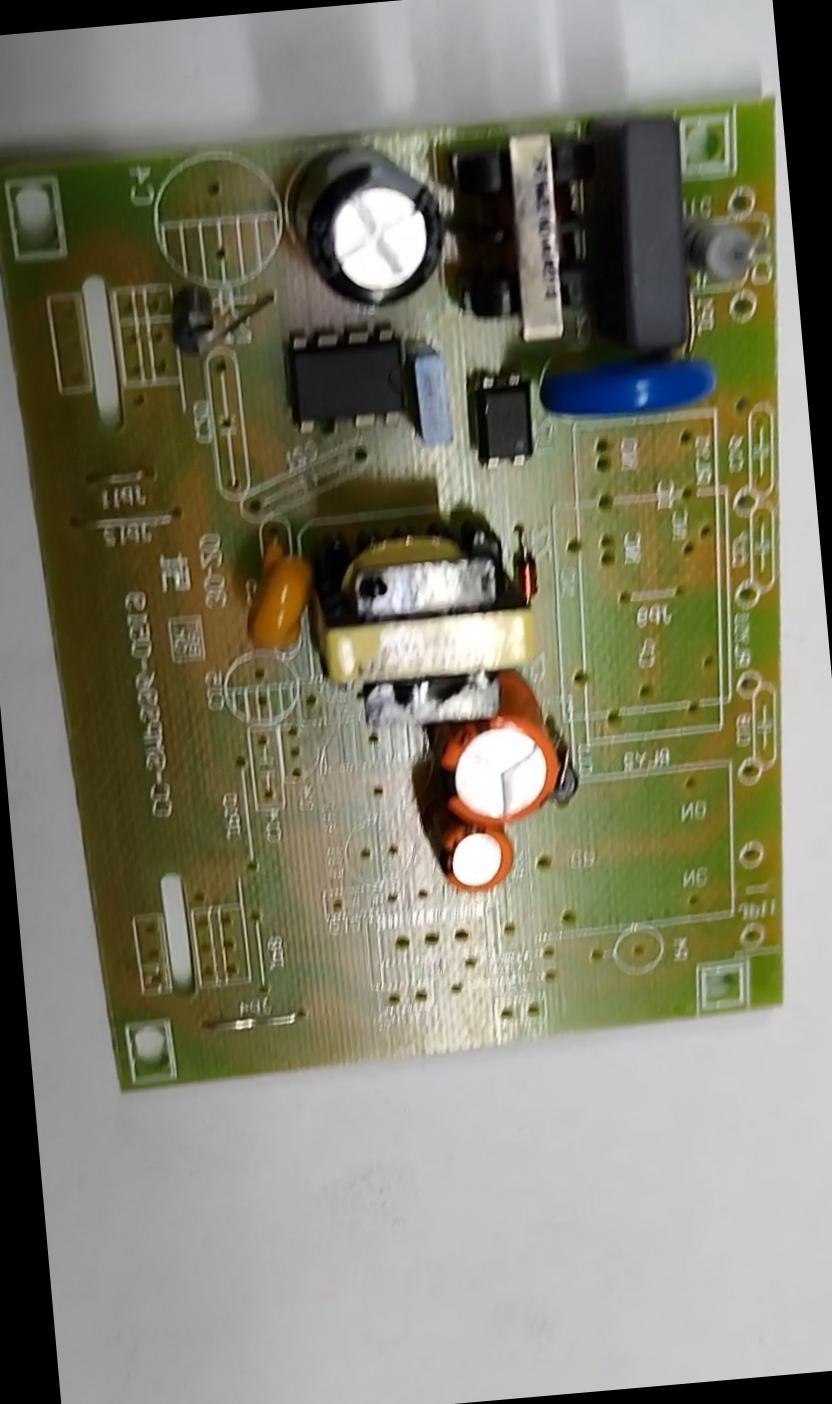Cap1: (440, 712, 560, 828)
Cap2: (435, 822, 513, 892)
Cap3: (300, 135, 446, 304)
MOSFET: (286, 326, 404, 432)
Mov: (542, 360, 720, 422)
Resistor: (690, 216, 758, 286)
Transformer: (449, 127, 596, 341)
